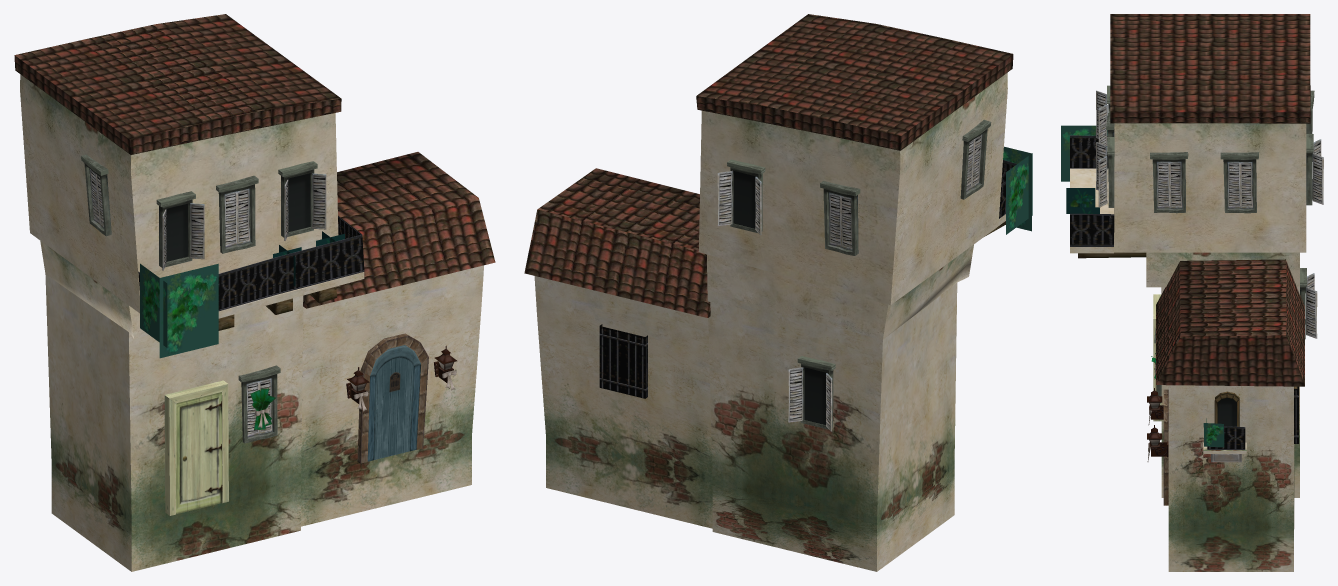
Rendered from spanish_npc_house_g_exterior.fbx.
3 views of the same model, side by side, from view 1: azimuth 30°, elevation 25°; view 2: azimuth 150°, elevation 25°; view 3: azimuth 270°, elevation 25° (orthographic). The views are drawn at different scales.
Visible parts, largest first — view 1: building_block_a, building_block_c, building_block_b, roof_c2, roof_b, railing_upstairs.001, door_left, door_right_2, vines1, door_frame_1, win_rect_closed_01, door_frame_2 (+11 smaller); view 2: building_block_a, building_block_c, building_block_b, roof_c2, roof_b, group1, win_rect_closed_04, win_rect_closed_03, vines2, windowframe1, windowframe2, shutter_a.003 (+4 smaller); view 3: roof_c2, building_block_b, building_block_c, roof_b, building_block_a, win_rect_closed_05, win_rect_closed_06, railing_upstairs.001, balcony_upstairs.001, railing_upstairs1, Window2, vines2 (+11 smaller).
Part boxes in pixels (bbox=[...]): building_block_a: bbox=[40, 241, 303, 571]; building_block_c: bbox=[20, 74, 338, 313]; building_block_b: bbox=[301, 265, 483, 526]; roof_c2: bbox=[14, 14, 341, 154]; roof_b: bbox=[303, 152, 495, 308]; railing_upstairs.001: bbox=[138, 219, 364, 311]; door_left: bbox=[367, 345, 420, 461]; door_right_2: bbox=[176, 392, 222, 514]; vines1: bbox=[159, 263, 218, 358]; door_frame_1: bbox=[164, 380, 228, 515]; win_rect_closed_01: bbox=[216, 175, 258, 253]; door_frame_2: bbox=[357, 333, 428, 463]; building_block_a: bbox=[706, 244, 973, 571]; building_block_c: bbox=[698, 73, 1007, 305]; building_block_b: bbox=[534, 276, 712, 528]; roof_c2: bbox=[696, 14, 1013, 150]; roof_b: bbox=[524, 168, 710, 317]; group1: bbox=[599, 324, 647, 398]; win_rect_closed_04: bbox=[820, 181, 860, 255]; win_rect_closed_03: bbox=[960, 119, 991, 199]; vines2: bbox=[1006, 153, 1032, 234]; windowframe1: bbox=[733, 171, 756, 228]; windowframe2: bbox=[804, 367, 826, 424]; shutter_a.003: bbox=[788, 367, 803, 422]; roof_c2: bbox=[1110, 14, 1310, 123]; building_block_b: bbox=[1168, 385, 1294, 571]; building_block_c: bbox=[1114, 123, 1306, 252]; roof_b: bbox=[1156, 259, 1304, 386]; building_block_a: bbox=[1146, 252, 1299, 497]; win_rect_closed_05: bbox=[1220, 152, 1258, 213]; win_rect_closed_06: bbox=[1150, 152, 1188, 213]; railing_upstairs.001: bbox=[1070, 135, 1114, 246]; balcony_upstairs.001: bbox=[1070, 168, 1113, 253]; railing_upstairs1: bbox=[1070, 135, 1108, 168]; Window2: bbox=[1214, 391, 1239, 426]; vines2: bbox=[1061, 125, 1107, 181].
Size of the model in its own units: 4166 by 4503 by 2685.
Materials: 3 (3 with a texture image).
